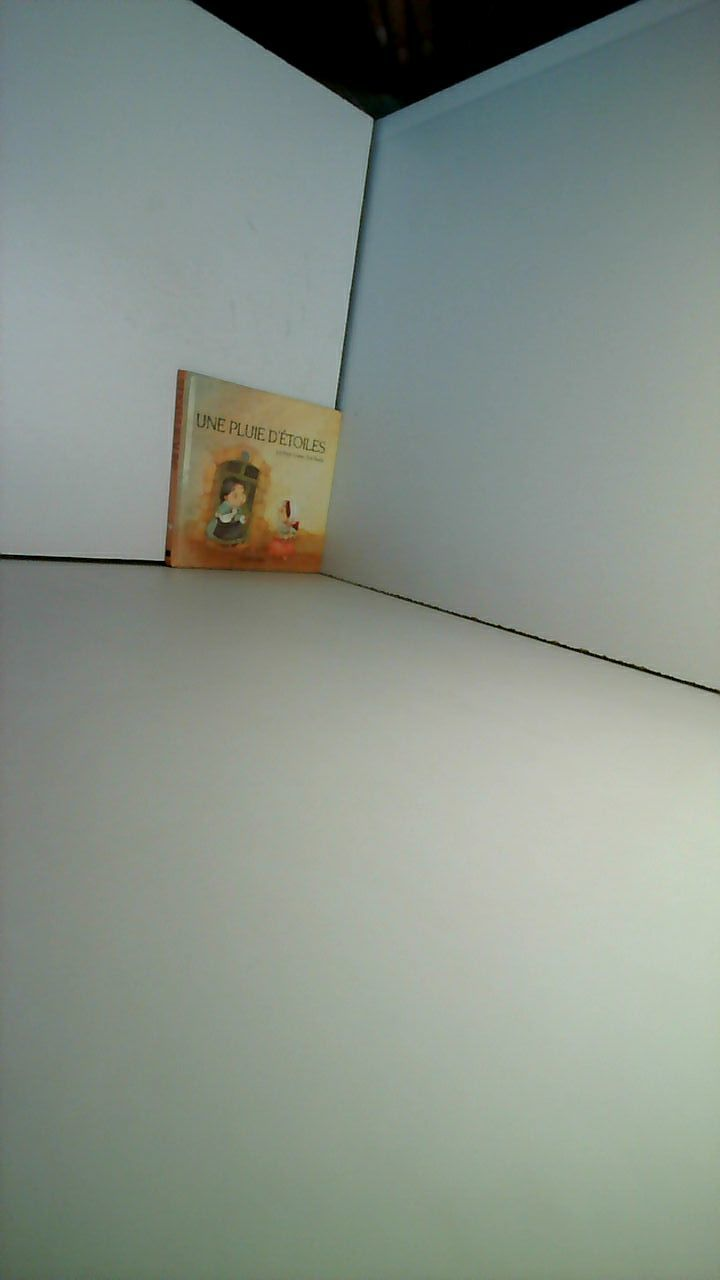book: (149, 352, 363, 590)
